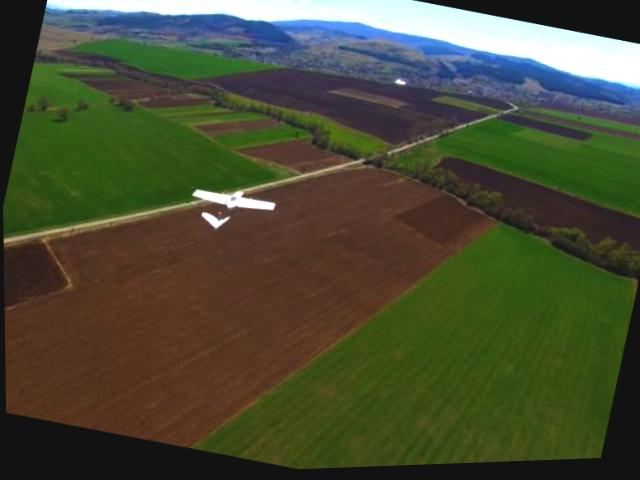uav: (180, 171, 282, 253)
